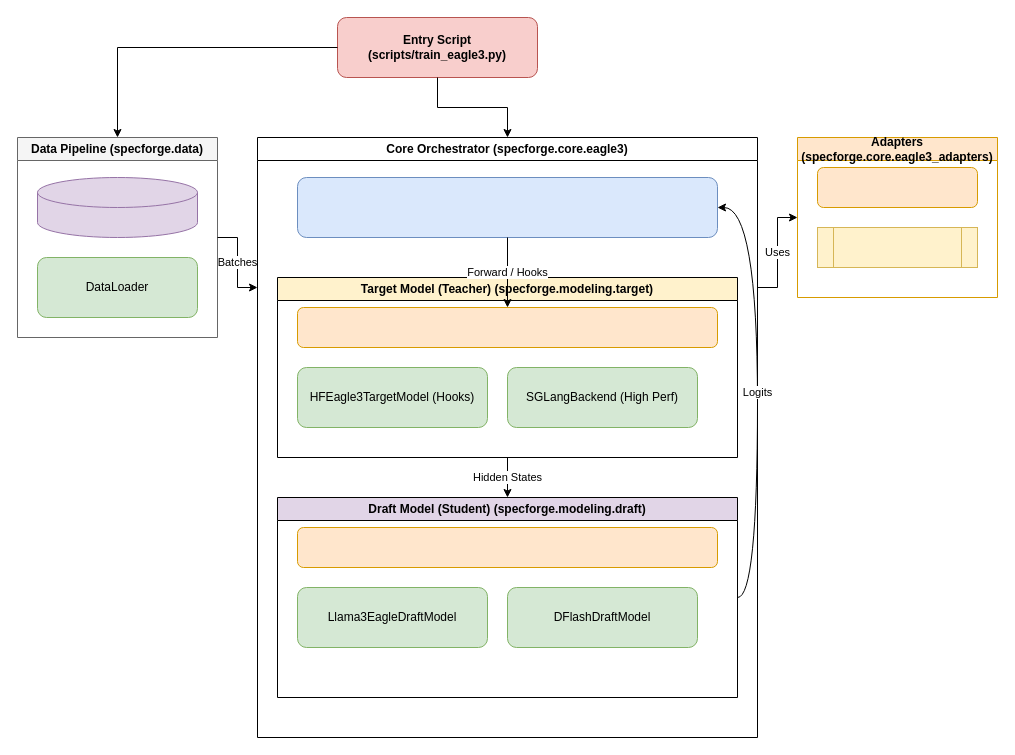
Some shapes in this 1015 by 755 pixel diagram are drawn without their labels. Each missing label, with the centre of its shape:
"BackendAdapter" belongs at point 897,187.
"Eagle3Dataset" belongs at point 117,207.
"Interface: Eagle3DraftModel" belongs at point 507,547.
"Interface: Eagle3TargetModel" belongs at point 507,327.
"OnlineEagle3Model (Wrapper)" belongs at point 507,207.
"SdpaLikeAdapter" belongs at point 897,247.
